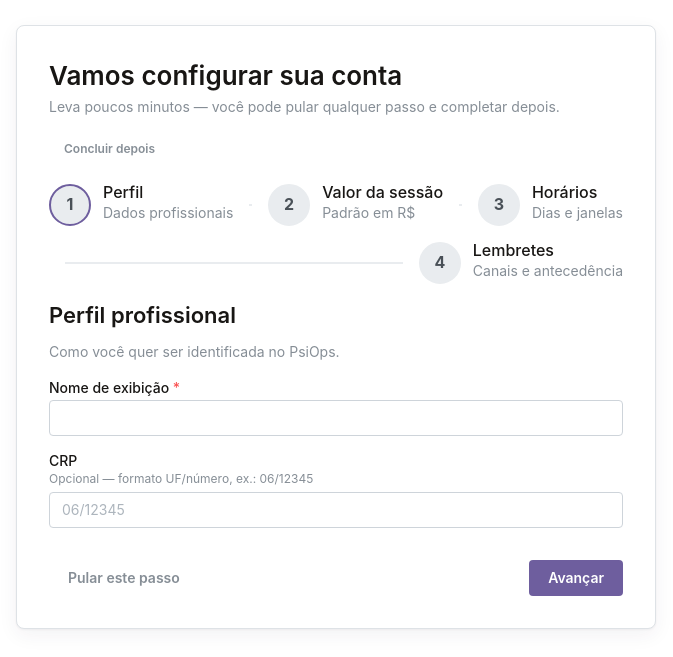
Test: OnboardingPage › valida o passo antes de avançar (nome de exibição obrigatório)
Expected: the form with test id "onboarding-step-perfil" is shown, [49,300,623,596]
Click the button "Avançar". click: x=576, y=578
box: [529,560,623,596]
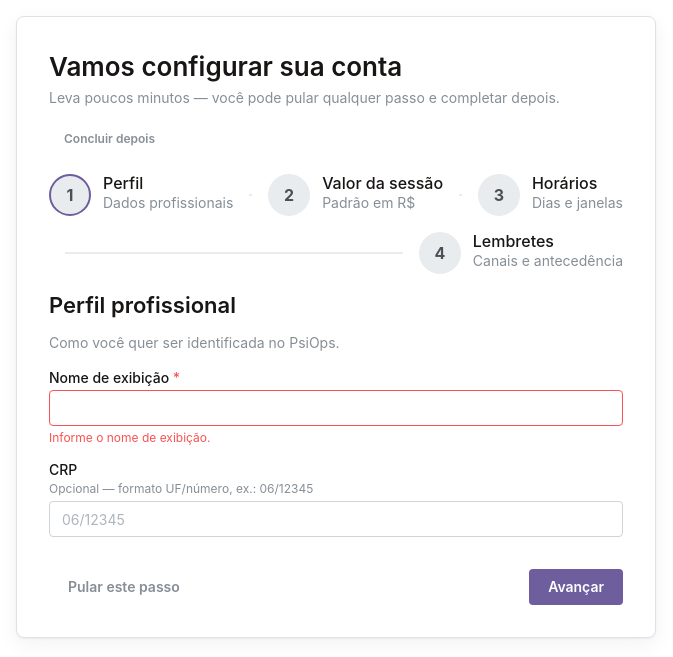
Expected: the form with test id "onboarding-step-perfil" is shown, [49,290,623,606]
Result: the text "Informe o nome de exibição." is shown at [49,430,210,445]
